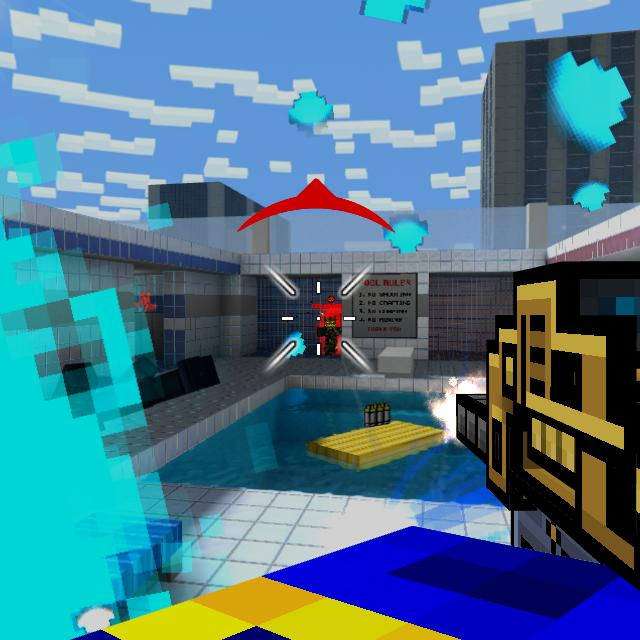Enemy: (316, 317, 341, 356)
